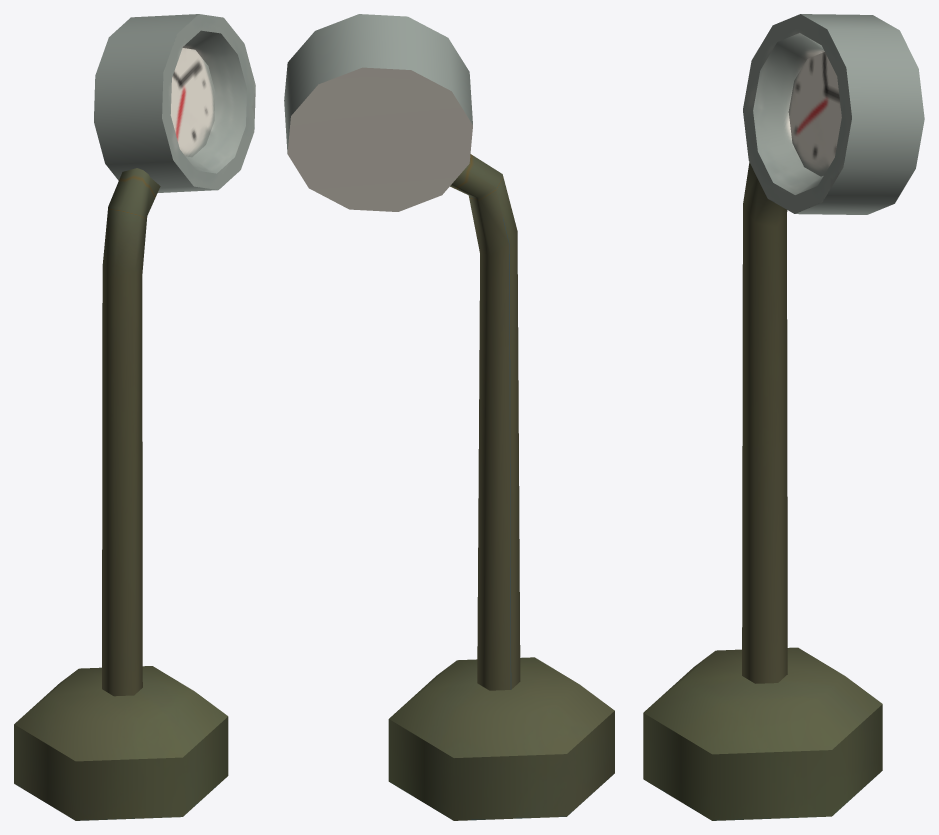
Rendered from Gauge.FBX.
The picture shows the model from 3 angles, left to right: view 1: azimuth 30°, elevation 25°; view 2: azimuth 150°, elevation 25°; view 3: azimuth 270°, elevation 25°; orthographic projection. The views are drawn at different scales.
Parts seen in each view (by area): view 1: Gauge; view 2: Gauge; view 3: Gauge.
Boxes of the visible parts, left/top/right/bottom form: Gauge: left=14, top=14, right=255, bottom=820; Gauge: left=284, top=14, right=614, bottom=820; Gauge: left=643, top=14, right=924, bottom=820.
Size of the model in its own units: 0.2661 by 0.2276 by 0.7171.
